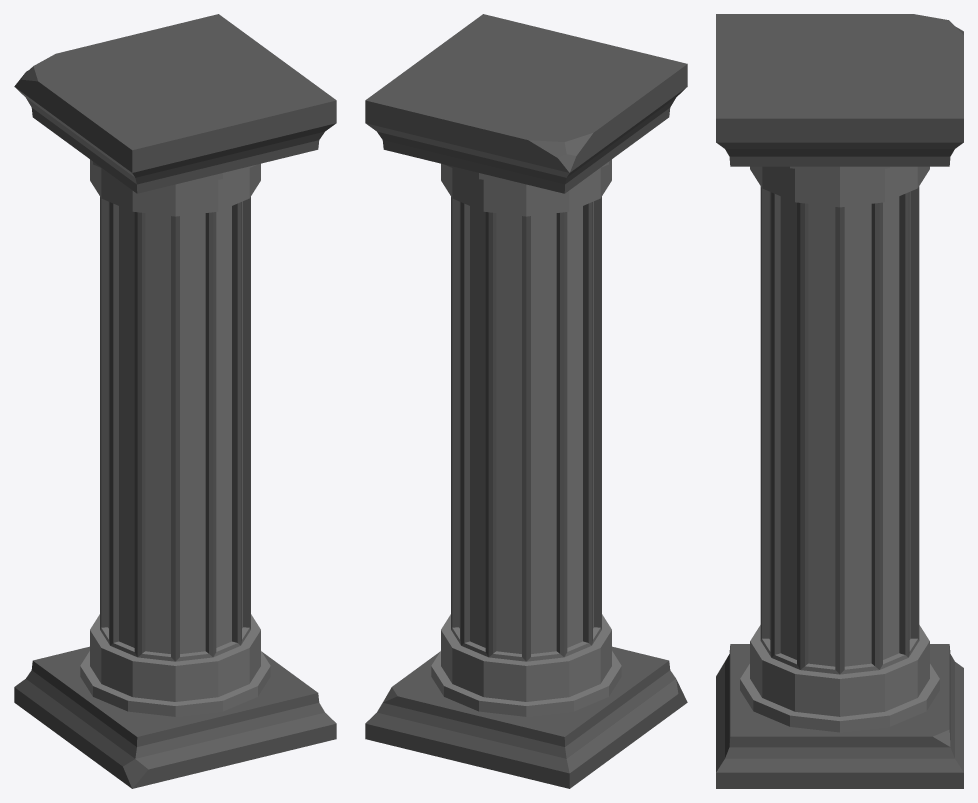
The model's file is Pillar_04.fbx.
The picture shows the model from 3 angles, left to right: view 1: azimuth 30°, elevation 25°; view 2: azimuth 150°, elevation 25°; view 3: azimuth 270°, elevation 25°; orthographic projection. The views are drawn at different scales.
Visible parts, largest first — view 1: Pillar_04; view 2: Pillar_04; view 3: Pillar_04.
Boxes of the visible parts, x1,y1,x2,y2 form: Pillar_04: (14, 14, 336, 788); Pillar_04: (365, 14, 687, 788); Pillar_04: (716, 14, 963, 788).
Size of the model in its own units: 84.42 by 252 by 84.42.
